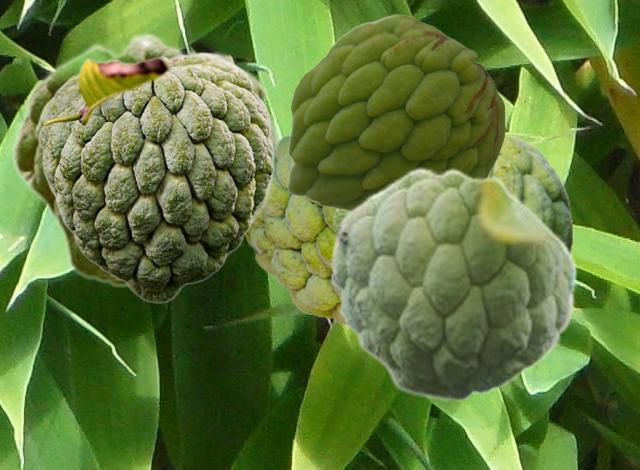atis: (9, 31, 278, 287), (37, 51, 273, 302), (329, 167, 578, 400), (287, 14, 504, 212), (333, 131, 572, 249), (244, 133, 343, 325)
